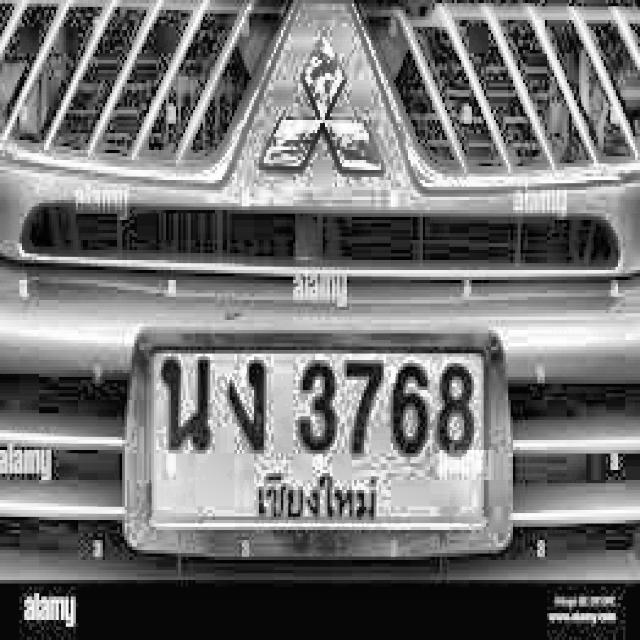license-plate: (109, 300, 546, 599)
